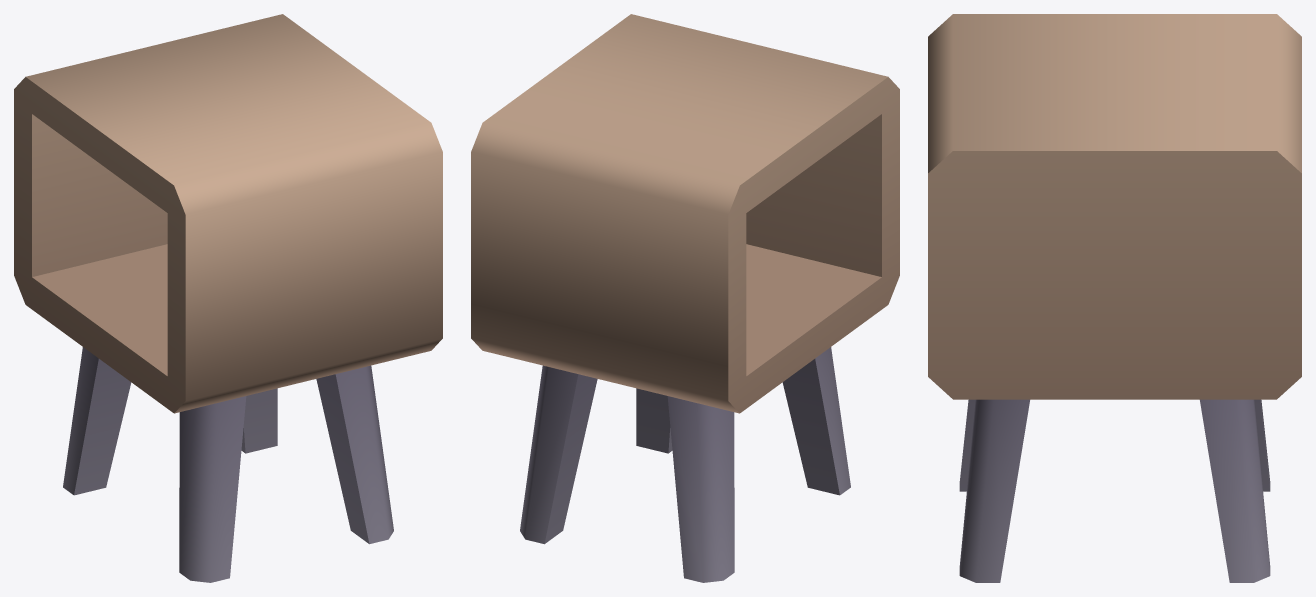
File: nightstand-open.glb
3 views of the same model, side by side, from view 1: azimuth 30°, elevation 25°; view 2: azimuth 150°, elevation 25°; view 3: azimuth 270°, elevation 25° (orthographic). The views are drawn at different scales.
Visible parts, largest first — view 1: nightstand-open; view 2: nightstand-open; view 3: nightstand-open.
Part boxes in pixels (<box>): nightstand-open: <box>14,14,442,582</box>; nightstand-open: <box>471,14,899,582</box>; nightstand-open: <box>928,14,1301,582</box>.
Bounding box in the file's own units: 0.3 × 0.456 × 0.346.
